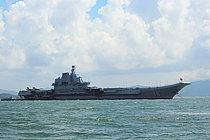MIL_Ship: (18, 63, 191, 99)
